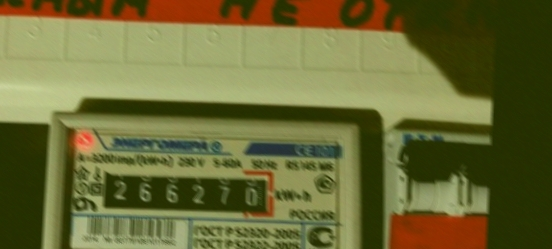0: (244, 184, 257, 206)
2: (112, 177, 127, 199), (191, 182, 204, 203)
6: (138, 181, 152, 201), (164, 182, 178, 201)
7: (216, 183, 230, 205)
screen: (92, 159, 282, 224)
